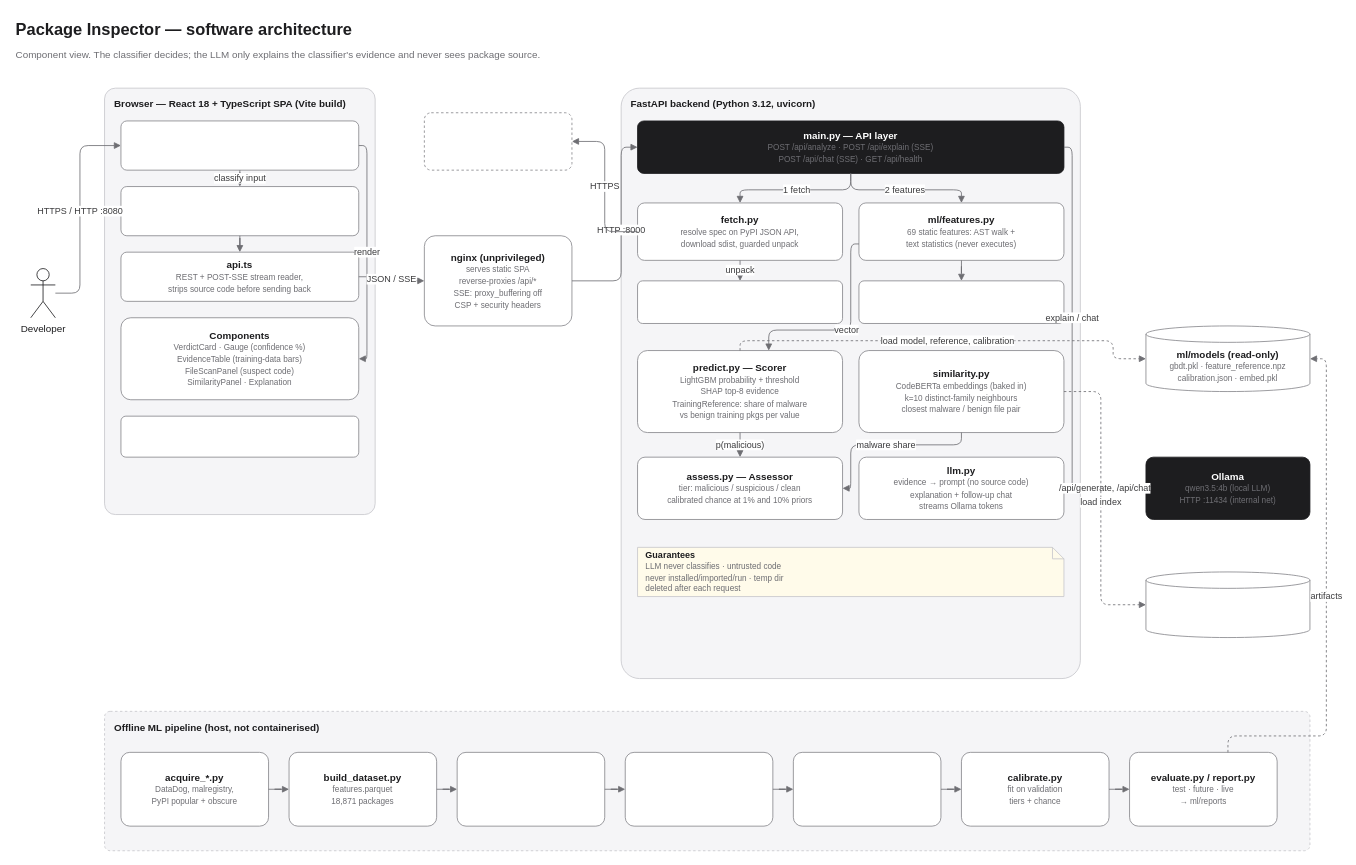
Some shapes in this 1356 by 865 pixel diagram are drawn without their labels. Here are the shapes that lost their labels. From the top down, the centre of each, then its label:
the point at 239,145: App.tsx chat state, message thread, health polling, 'New chat'
the point at 498,141: PyPI JSON API + sdist files (internet)
the point at 239,211: route.ts package spec vs. follow-up question 'is flask safe?' → analyse flask
the point at 740,301: ml/safe_extract.py path traversal, links, bombs
the point at 961,301: ml/file_scan.py per-file suspicious calls + lines
the point at 239,436: styles.css Apple-style neutral theme, light/dark
the point at 1227,604: data/ (read-only) embeddings.npz · raw indexes known package sources
the point at 530,789: split.py grouped 70/15/15 + future holdout
the point at 698,789: train_gbdt.py LightGBM, grouped CV thresholds + reference
the point at 867,789: train_embed.py CodeBERTa + LR head (Model B, comparison)
